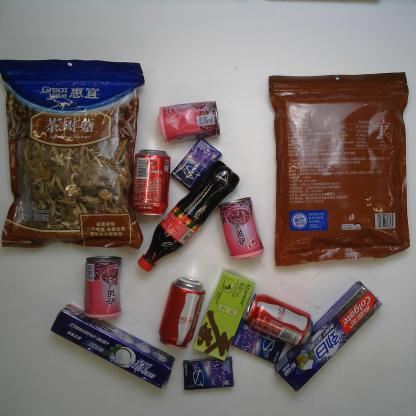Canned Food: (219, 195, 265, 260), (83, 255, 124, 321), (157, 99, 221, 141)
Dried Food: (265, 71, 413, 265), (1, 56, 146, 250)
Drink: (139, 159, 240, 274), (243, 291, 315, 343), (158, 276, 206, 350), (131, 146, 172, 218)
Gum: (170, 138, 222, 188), (231, 318, 285, 364), (182, 354, 235, 391)
Instant Drink: (192, 269, 255, 360)
Personal Hygiene: (274, 282, 381, 392), (51, 304, 176, 390)
